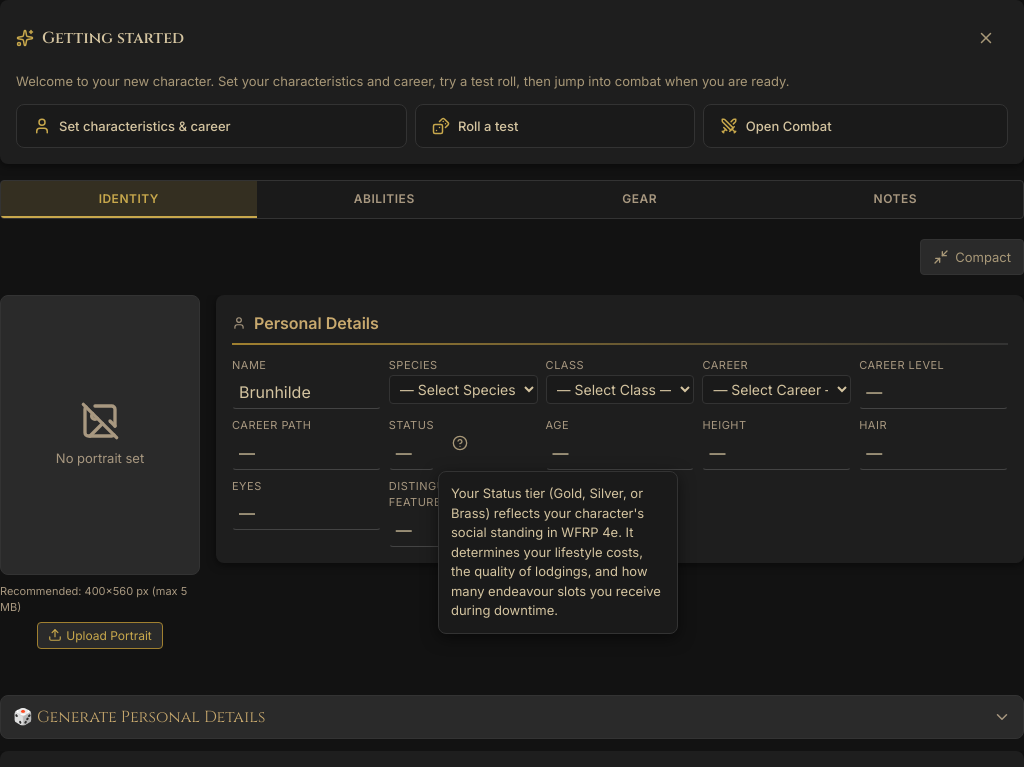
Test: CharacterPage compact mode (Req 9.1, 9.2, 9.3, 9.4) › expanded mode renders full details (Req 9.3) › renders compact summary when toggled to compact mode
This screenshot has width=1024, height=767.
Click the button with aria-label "switch to compact view" at (972, 256), box x1=920 y1=238 x2=1023 y2=274
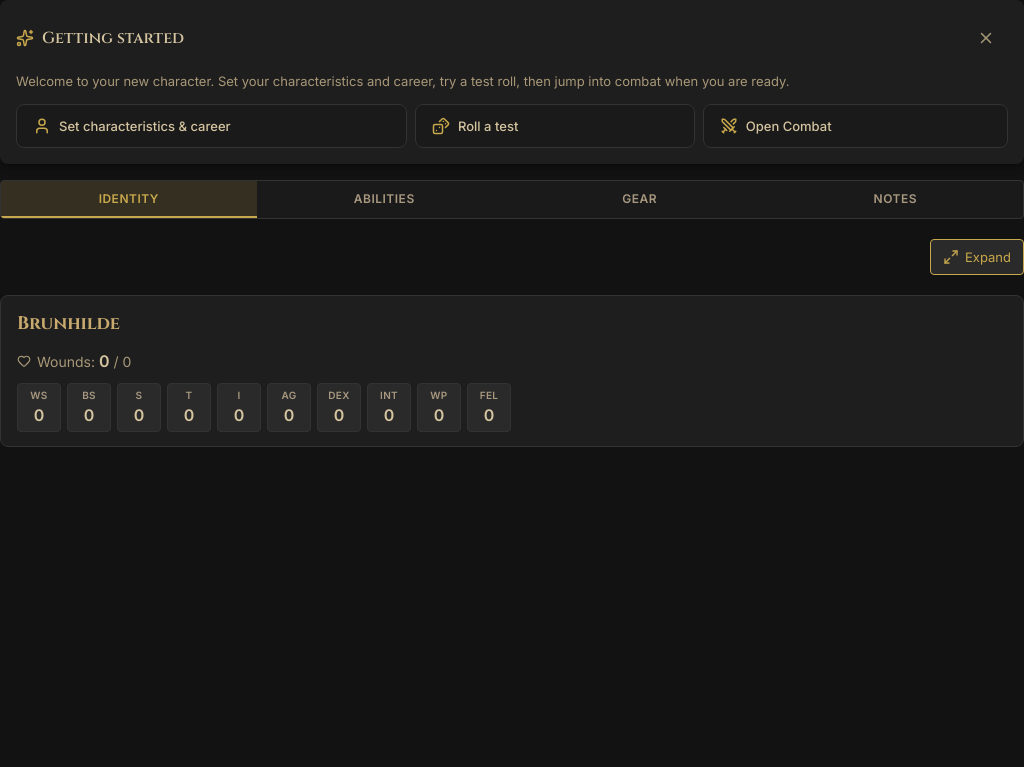
Expected: the element that starts with "Brunhilde" is shown, x1=0 y1=294 x2=1023 y2=446
